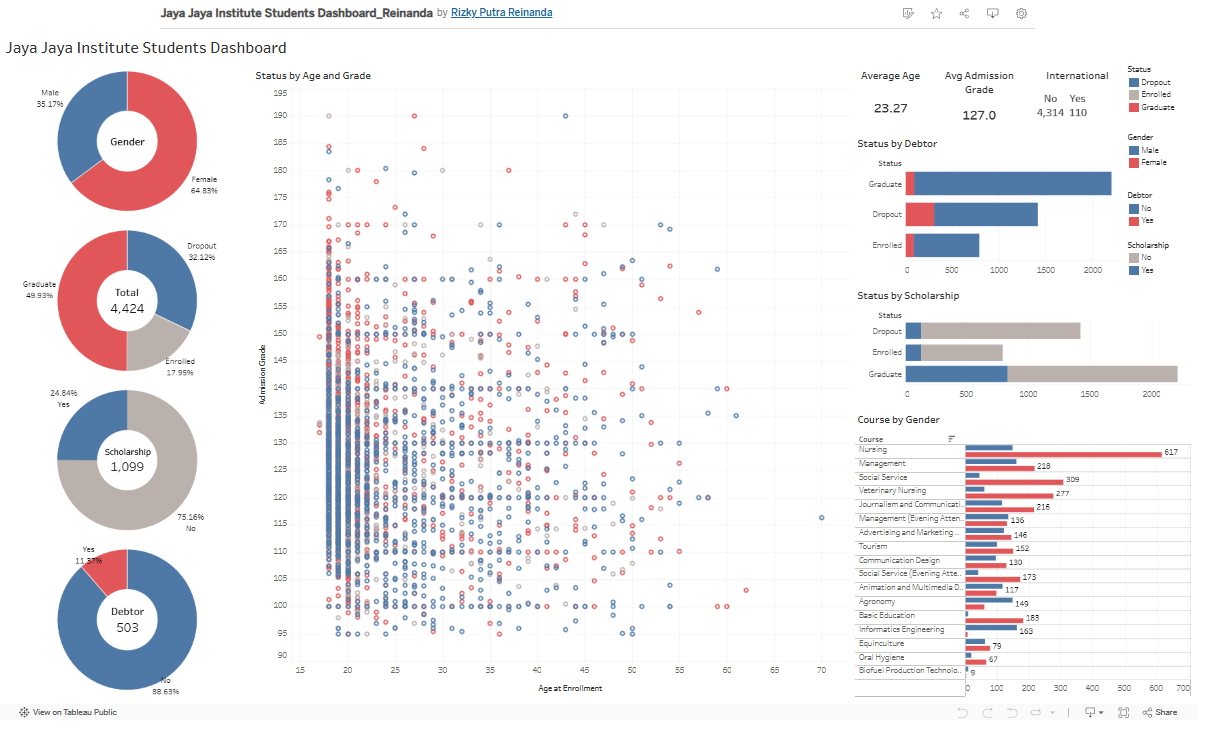

The dashboard page shown, as its layout file describes it:
{"tool":"tableau","page":{"name":"Dropout","canvas":[1920,1080],"ordinal":0},"visuals":[{"type":"title","box":[8,8,1904,44]},{"type":"worksheet","title":"Gender","mark":"Pie","rows":["Calculation_1055549545689113","Calculation_1055549545689113"],"box":[8,52,396.2,255]},{"type":"worksheet","title":"Status by Age and Grade","mark":"Automatic","rows":["Admission_grade"],"cols":["Age_at_enrollment"],"box":[404.2,52,962.8,1020]},{"type":"worksheet","title":"Avg Age","mark":"Automatic","box":[1367,52,122,109.3]},{"type":"worksheet","title":"Avg Grade","mark":"Automatic","box":[1489,52,162,109.3]},{"type":"worksheet","title":"International","mark":"Automatic","box":[1651,52,152,109.3]},{"type":"legend","title":"Status by Age and Grade","param":"[federated.0if7jkf1grgtqn10i7km81fcjzp9].[none:Status:nk]","box":[1803,52,109,93]},{"type":"worksheet","title":"Status by Debtor","mark":"Bar","rows":["Status"],"cols":["Debtor"],"box":[1367,161.3,436,242.6]},{"type":"legend","title":"Course by Gender","param":"[federated.0if7jkf1grgtqn10i7km81fcjzp9].[none:Gender:nk]","box":[1803,161.3,109,93]},{"type":"legend","title":"Status by Debtor","param":"[federated.0if7jkf1grgtqn10i7km81fcjzp9].[none:Debtor:nk]","box":[1803,254.3,109,79]},{"type":"worksheet","title":"Status","mark":"Pie","rows":["Calculation_1055549555798053","Calculation_1055549555810343"],"box":[8,307,396.2,255]},{"type":"legend","title":"Status by Scholarship","param":"[federated.0if7jkf1grgtqn10i7km81fcjzp9].[none:Scholarship_holder:nk]","box":[1803,333.3,109,65]},{"type":"worksheet","title":"Status by Scholarship","mark":"Automatic","rows":["Status"],"cols":["Scholarship_holder"],"box":[1367,403.9,545,198.2]},{"type":"worksheet","title":"Scholarship","mark":"Pie","rows":["Calculation_1055549557358633","Calculation_1055549557358633"],"box":[8,562,396.2,255]},{"type":"worksheet","title":"Course by Gender","mark":"Automatic","rows":["Course","Gender"],"cols":["Course"],"box":[1367,602.1,545,469.9]},{"type":"worksheet","title":"Debtor","mark":"Pie","rows":["Calculation_1055549548302363","Calculation_1055549548302363"],"box":[8,817,396.2,255]}]}

Visuals, with their boxes on the page's 1920x1080 design canvas (x1, y1, x2, y2). These are canvas units, not pixel positions in the 1205x729 screenshot, which may show the page scaled, cropped or inside an application window:
title: 8, 8, 1912, 52
"Gender" worksheet (Pie marks): 8, 52, 404, 307
"Status by Age and Grade" worksheet: 404, 52, 1367, 1072
"Avg Age" worksheet: 1367, 52, 1489, 161
"Avg Grade" worksheet: 1489, 52, 1651, 161
"International" worksheet: 1651, 52, 1803, 161
"Status by Age and Grade" legend: 1803, 52, 1912, 145
"Status by Debtor" worksheet (Bar marks): 1367, 161, 1803, 404
"Course by Gender" legend: 1803, 161, 1912, 254
"Status by Debtor" legend: 1803, 254, 1912, 333
"Status" worksheet (Pie marks): 8, 307, 404, 562
"Status by Scholarship" legend: 1803, 333, 1912, 398
"Status by Scholarship" worksheet: 1367, 404, 1912, 602
"Scholarship" worksheet (Pie marks): 8, 562, 404, 817
"Course by Gender" worksheet: 1367, 602, 1912, 1072
"Debtor" worksheet (Pie marks): 8, 817, 404, 1072
